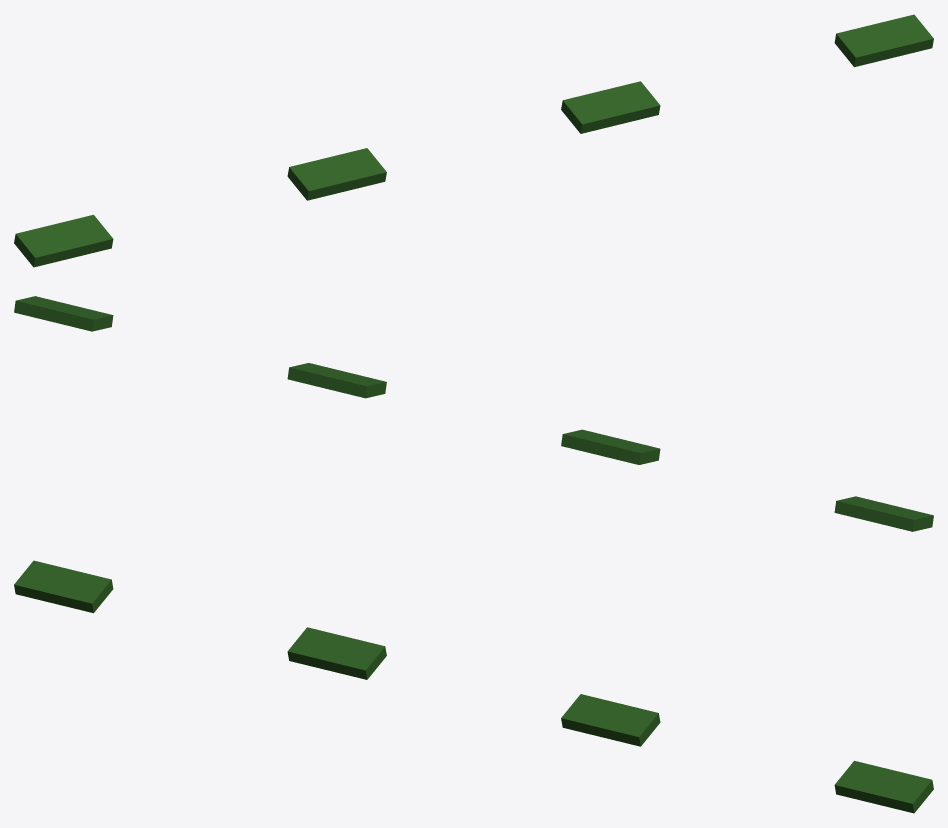
File: micsher.003_material.008_0_lev1.glb
3 renders of one model, top to bottom at view 1: azimuth 30°, elevation 25°; view 2: azimuth 150°, elevation 25°; view 3: azimuth 330°, elevation 25°, orthographic.
Parts seen in each view (by area): view 1: micsher.003_material.008_0_lev1; view 2: micsher.003_material.008_0_lev1; view 3: micsher.003_material.008_0_lev1.
Part boxes in pixels (x1,y1,x2,y2): micsher.003_material.008_0_lev1: [14, 14, 933, 267]; micsher.003_material.008_0_lev1: [14, 296, 933, 531]; micsher.003_material.008_0_lev1: [14, 560, 933, 813].
Bounding box in the file's own units: 17.22 × 0.3768 × 0.7067.
